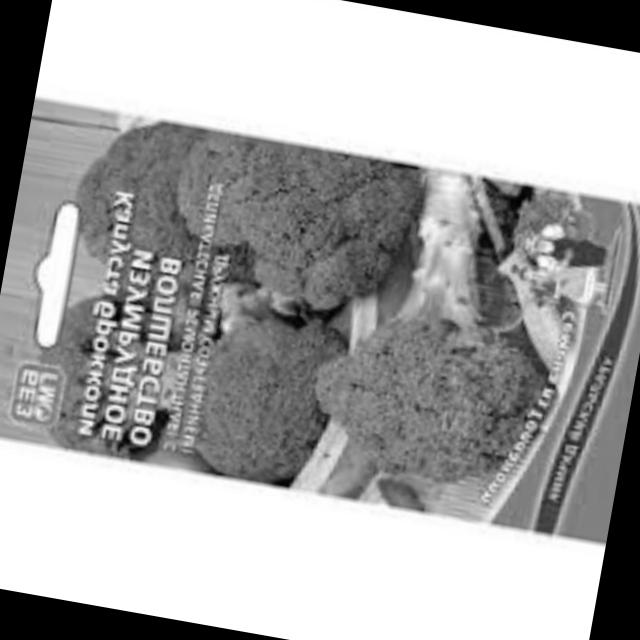broccoli: (290, 230, 565, 526), (22, 97, 276, 336), (165, 95, 394, 304), (158, 295, 356, 509), (5, 287, 203, 486)
